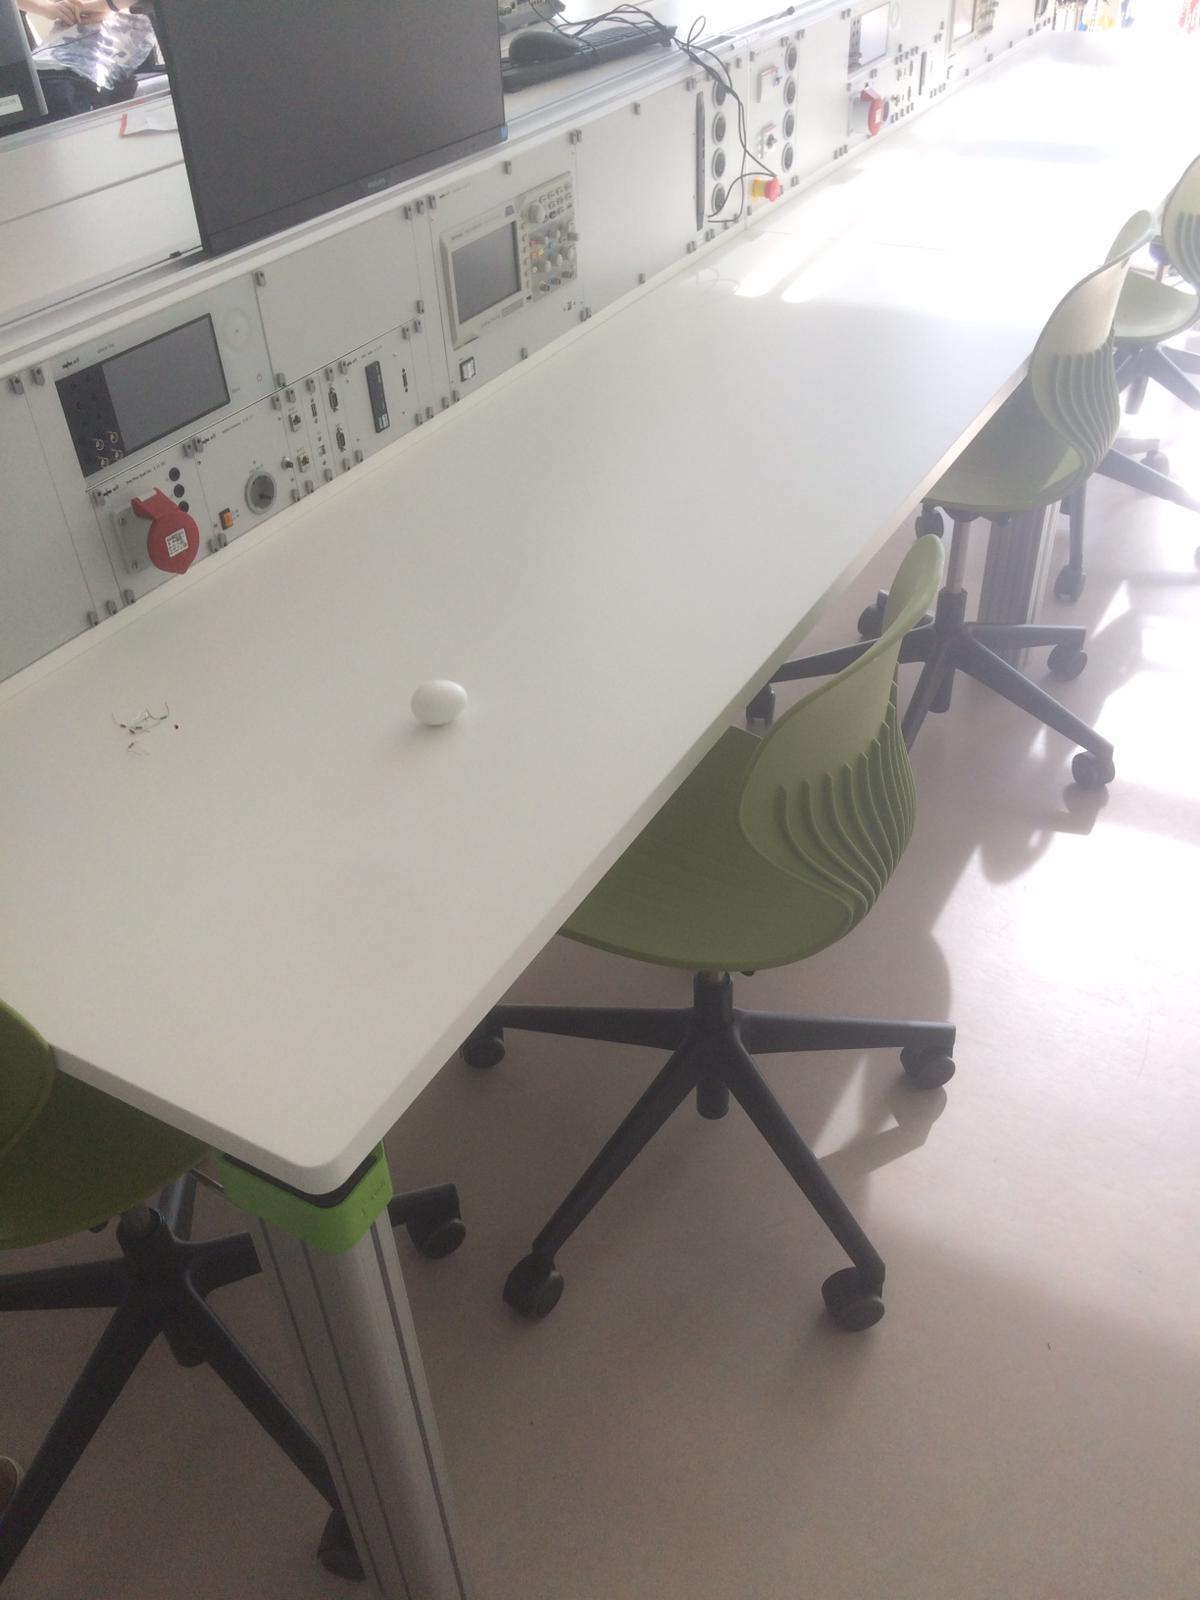egg: (406, 675, 476, 734)
